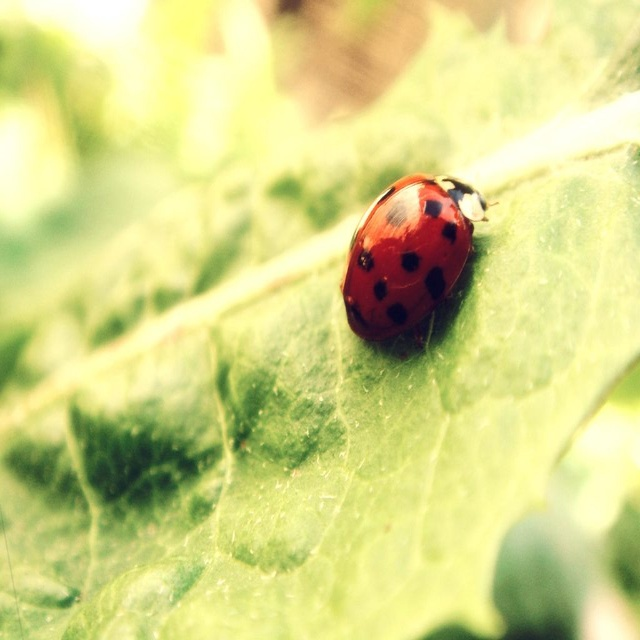Ladybug: (338, 175, 498, 359)
